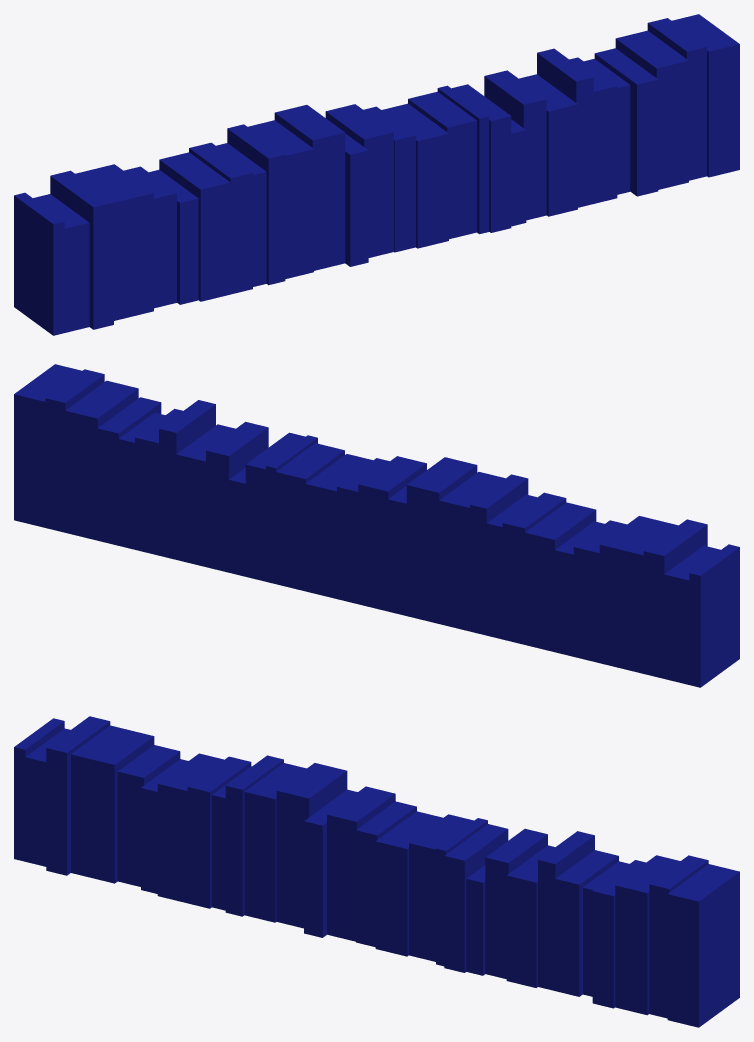
File: SM_BookBlocs_01.fbx
3 renders of one model, top to bottom at view 1: azimuth 30°, elevation 25°; view 2: azimuth 150°, elevation 25°; view 3: azimuth 330°, elevation 25°, orthographic.
Visible parts, largest first — view 1: SM_Books_Big; view 2: SM_Books_Big; view 3: SM_Books_Big.
Boxes of the visible parts, left/top/right/bottom form: SM_Books_Big: left=14, top=14, right=739, bottom=335; SM_Books_Big: left=14, top=364, right=739, bottom=687; SM_Books_Big: left=14, top=716, right=739, bottom=1027.
Bounding box in the file's own units: 266 × 48.63 × 29.32.
